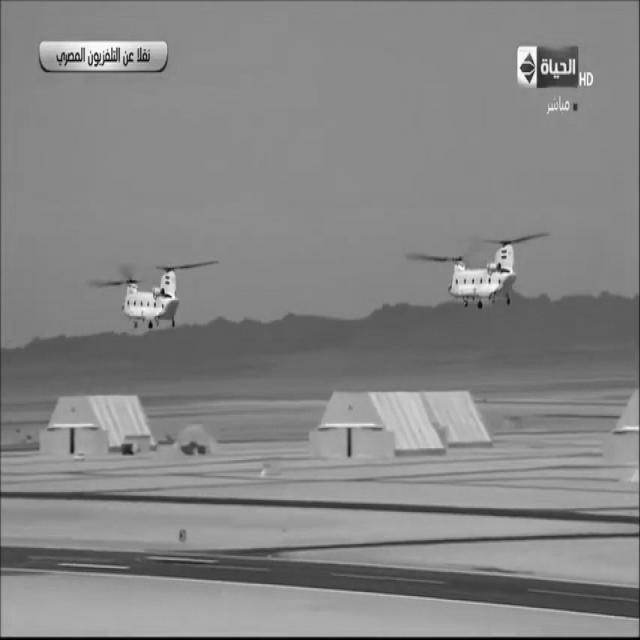helikopter: (408, 214, 554, 342), (96, 252, 218, 379)
